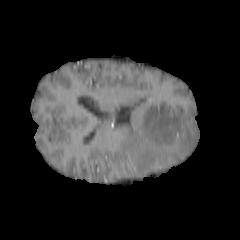glioma: (118, 101, 199, 174)
